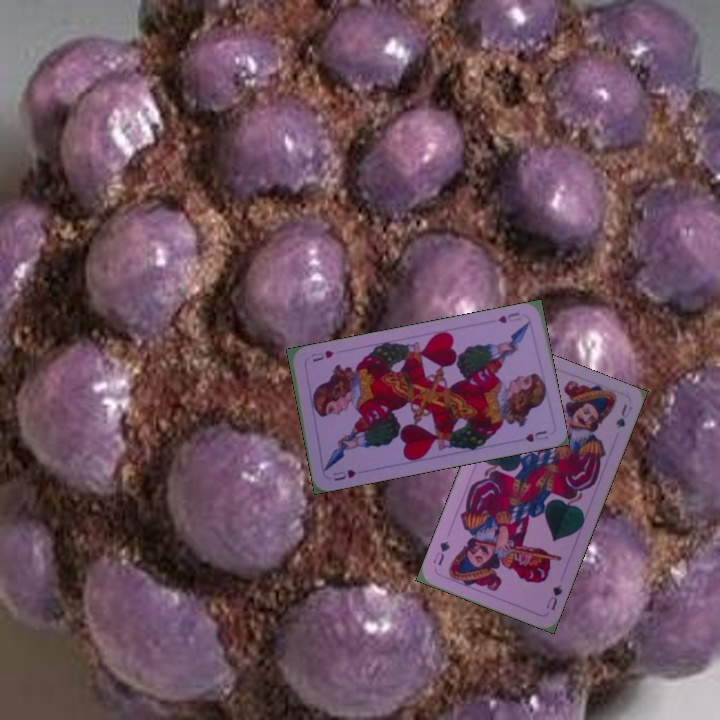GU: (542, 581, 565, 613)
HU: (329, 465, 358, 484), (494, 308, 523, 326)
